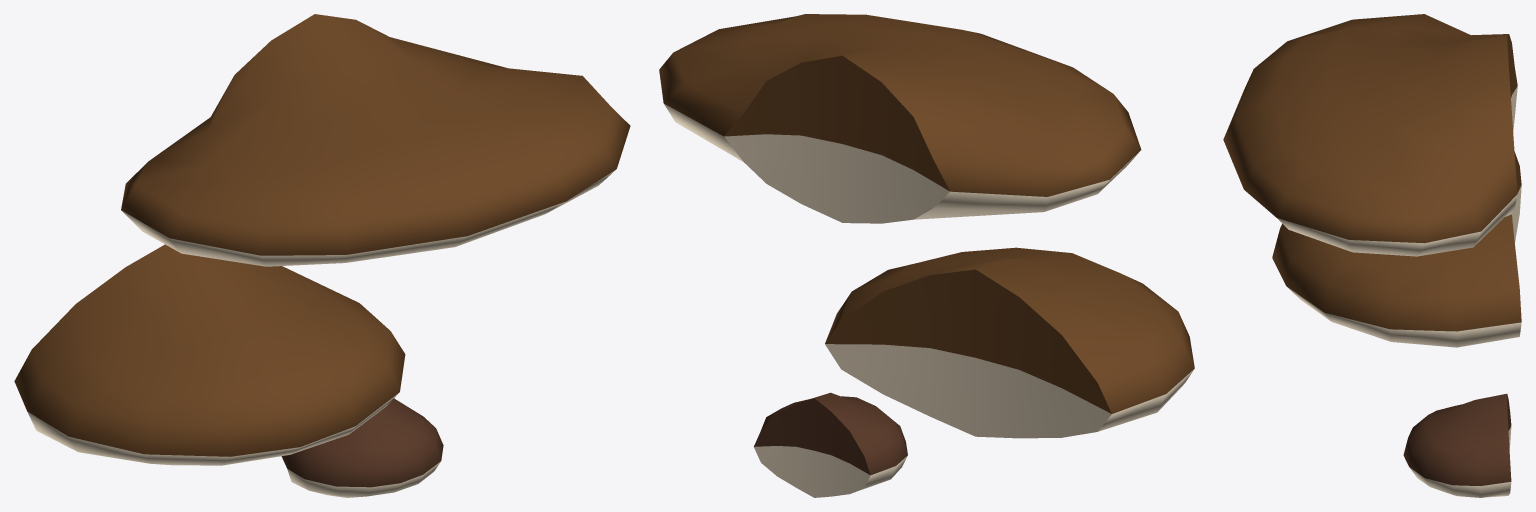
The model's file is Artists_Conk_Group_2.glb.
3 views of the same model, side by side, from view 1: azimuth 30°, elevation 25°; view 2: azimuth 150°, elevation 25°; view 3: azimuth 270°, elevation 25° (orthographic). The views are drawn at different scales.
Visible parts, largest first — view 1: Artists_Conk_Group_2; view 2: Artists_Conk_Group_2; view 3: Artists_Conk_Group_2.
Part boxes in pixels (x1,y1,x2,y2): Artists_Conk_Group_2: (14, 14, 630, 497); Artists_Conk_Group_2: (659, 14, 1194, 497); Artists_Conk_Group_2: (1223, 14, 1521, 497).
Bounding box in the file's own units: 0.8842 × 0.725 × 0.4451.
Materials: 1 (1 with a texture image).
